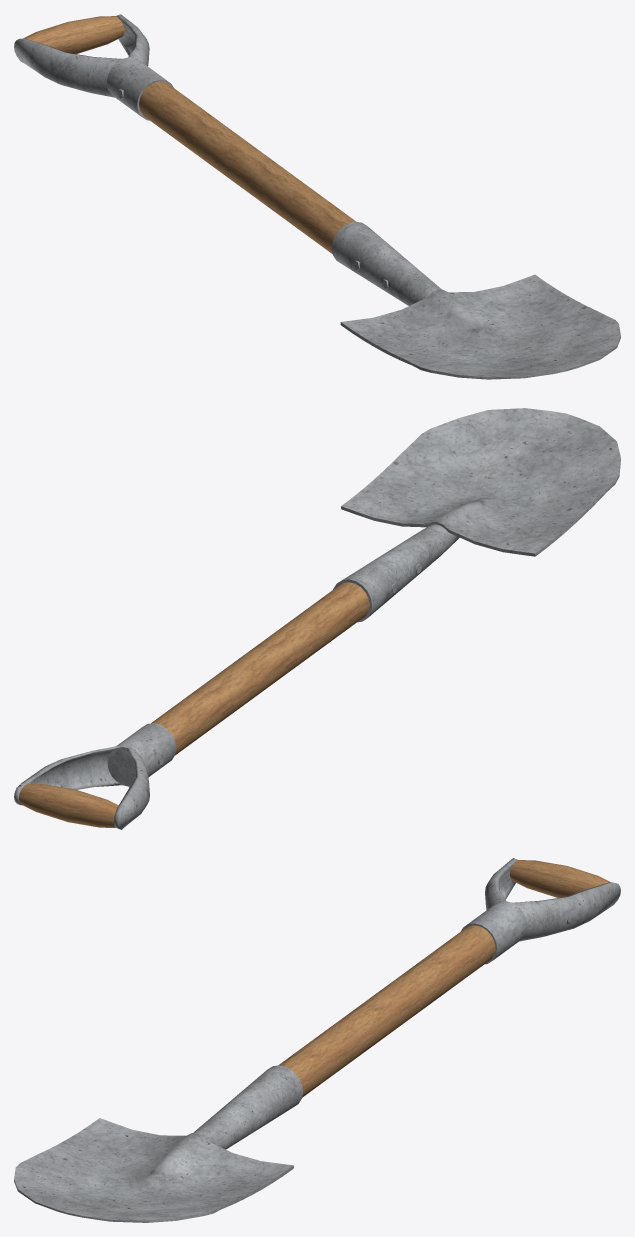
The model's file is Shovel.fbx.
3 renders of one model, top to bottom at view 1: azimuth 30°, elevation 25°; view 2: azimuth 150°, elevation 25°; view 3: azimuth 330°, elevation 25°, orthographic.
Visible parts, largest first — view 1: Shovel; view 2: Shovel; view 3: Shovel.
Part boxes in pixels (x1,y1,x2,y2): Shovel: (14, 14, 620, 379); Shovel: (14, 408, 620, 829); Shovel: (14, 858, 620, 1222).
Bounding box in the file's own units: 0.2507 × 0.0635 × 1.12.
